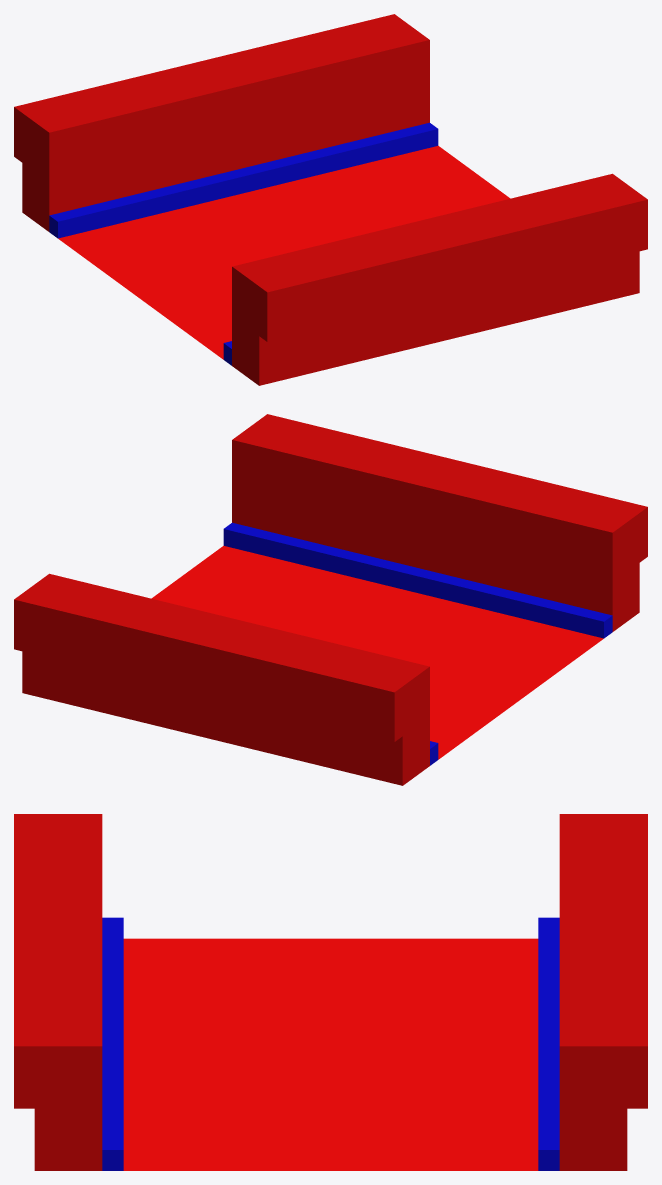
The model's file is Roof_Flat2.FBX.
3 renders of one model, top to bottom at view 1: azimuth 30°, elevation 25°; view 2: azimuth 150°, elevation 25°; view 3: azimuth 270°, elevation 25°, orthographic. The views are drawn at different scales.
Parts seen in each view (by area): view 1: Roof_Flat2; view 2: Roof_Flat2; view 3: Roof_Flat2.
Part boxes in pixels (box(x1,y1,x2,y2)): Roof_Flat2: box(14, 14, 647, 385); Roof_Flat2: box(14, 414, 647, 785); Roof_Flat2: box(14, 814, 647, 1170).
Size of the model in its own units: 2.56 by 0.64 by 2.95.
